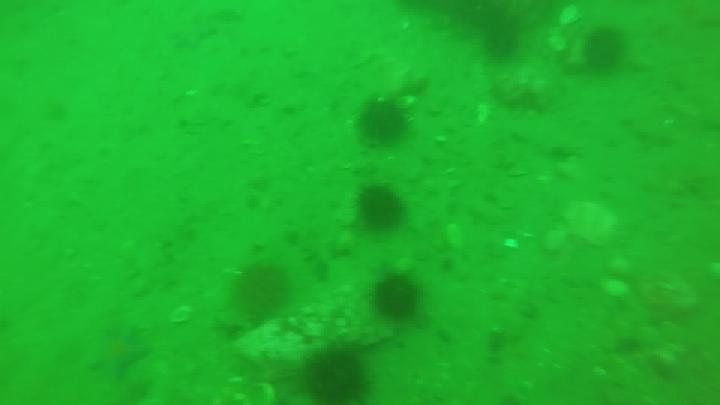echinus: (314, 339, 368, 405), (244, 260, 282, 324), (355, 98, 410, 142), (584, 25, 630, 74), (377, 271, 418, 320), (360, 190, 410, 227)
scallop: (560, 4, 585, 28), (606, 281, 633, 301), (170, 306, 195, 325), (547, 31, 568, 52), (503, 238, 520, 248)
starfish: (85, 328, 150, 377), (175, 18, 218, 47)
